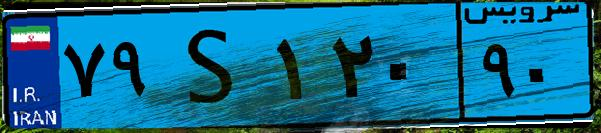0: (385, 28, 445, 110), (525, 38, 570, 115)
1: (270, 28, 330, 110)
2: (330, 28, 385, 110)
7: (57, 26, 110, 100)
9: (475, 38, 525, 113), (110, 28, 158, 98)
S: (158, 12, 270, 120)
